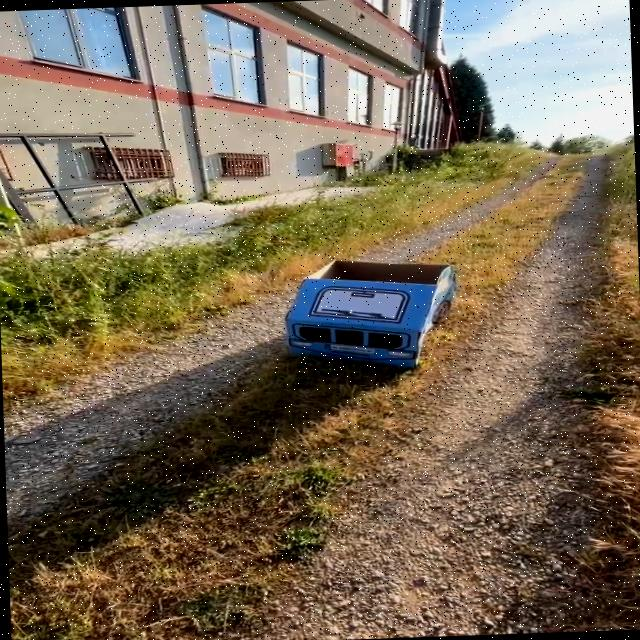blue_car: (236, 234, 506, 398)
